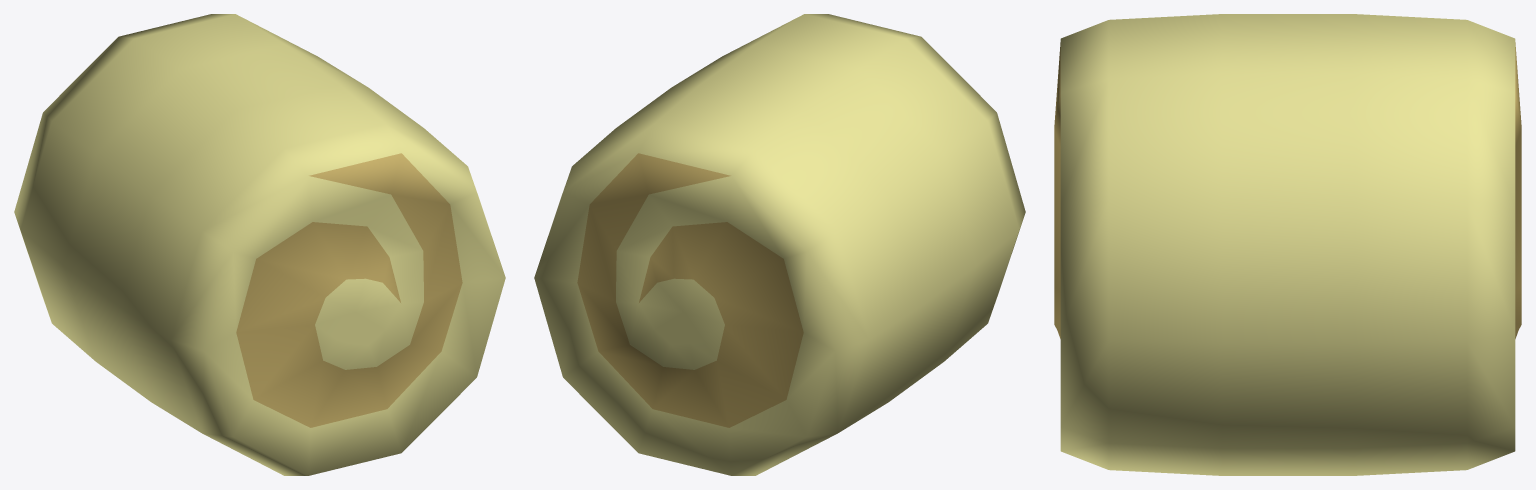
The model's file is Hay_Bale.fbx.
3 renders of one model, left to right at view 1: azimuth 30°, elevation 25°; view 2: azimuth 150°, elevation 25°; view 3: azimuth 270°, elevation 25°, orthographic. The views are drawn at different scales.
Visible parts, largest first — view 1: hay_bale; view 2: hay_bale; view 3: hay_bale.
Boxes of the visible parts, x1,y1,x2,y2 form: hay_bale: (14, 14, 505, 475); hay_bale: (534, 14, 1025, 475); hay_bale: (1054, 14, 1521, 475).
Bounding box in the file's own units: 174 × 165 × 175.
